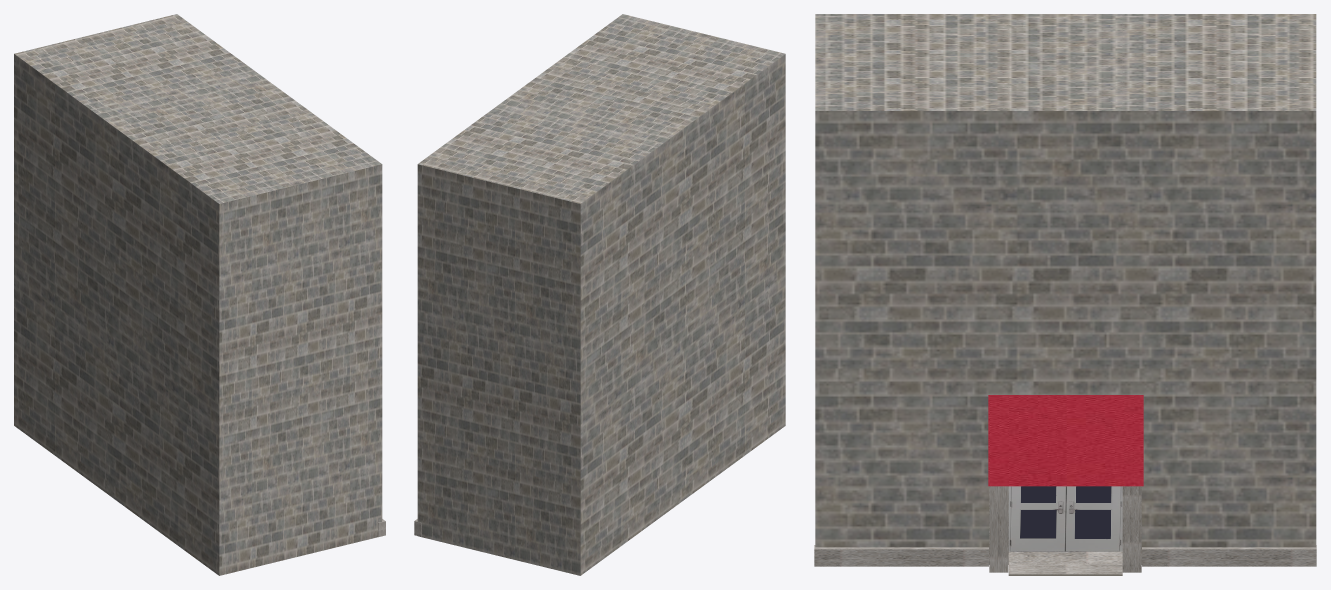
The model's file is apartmentbuilding.fbx.
3 renders of one model, left to right at view 1: azimuth 30°, elevation 25°; view 2: azimuth 150°, elevation 25°; view 3: azimuth 270°, elevation 25°, orthographic. The views are drawn at different scales.
Parts seen in each view (by area): view 1: Cube; view 2: Cube; view 3: Cube, Cube.001, Cube.004, Cube.003, Cube.002.
Part boxes in pixels (x1=…): Cube: x1=14, y1=14, x2=382, y2=575; Cube: x1=417, y1=14, x2=785, y2=575; Cube: x1=815, y1=14, x2=1316, y2=575; Cube.001: x1=988, y1=395, x2=1143, y2=486; Cube.004: x1=814, y1=545, x2=1316, y2=566; Cube.003: x1=989, y1=486, x2=1008, y2=572; Cube.002: x1=1122, y1=486, x2=1141, y2=572.
Size of the model in its own units: 1630 by 2910 by 2888.
